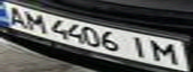0: (81, 25, 103, 48)
4: (45, 16, 69, 39), (66, 21, 84, 44)
6: (100, 28, 124, 53)
A: (3, 4, 30, 27)
I: (124, 34, 151, 60)
M: (148, 38, 184, 65), (21, 9, 48, 34)
